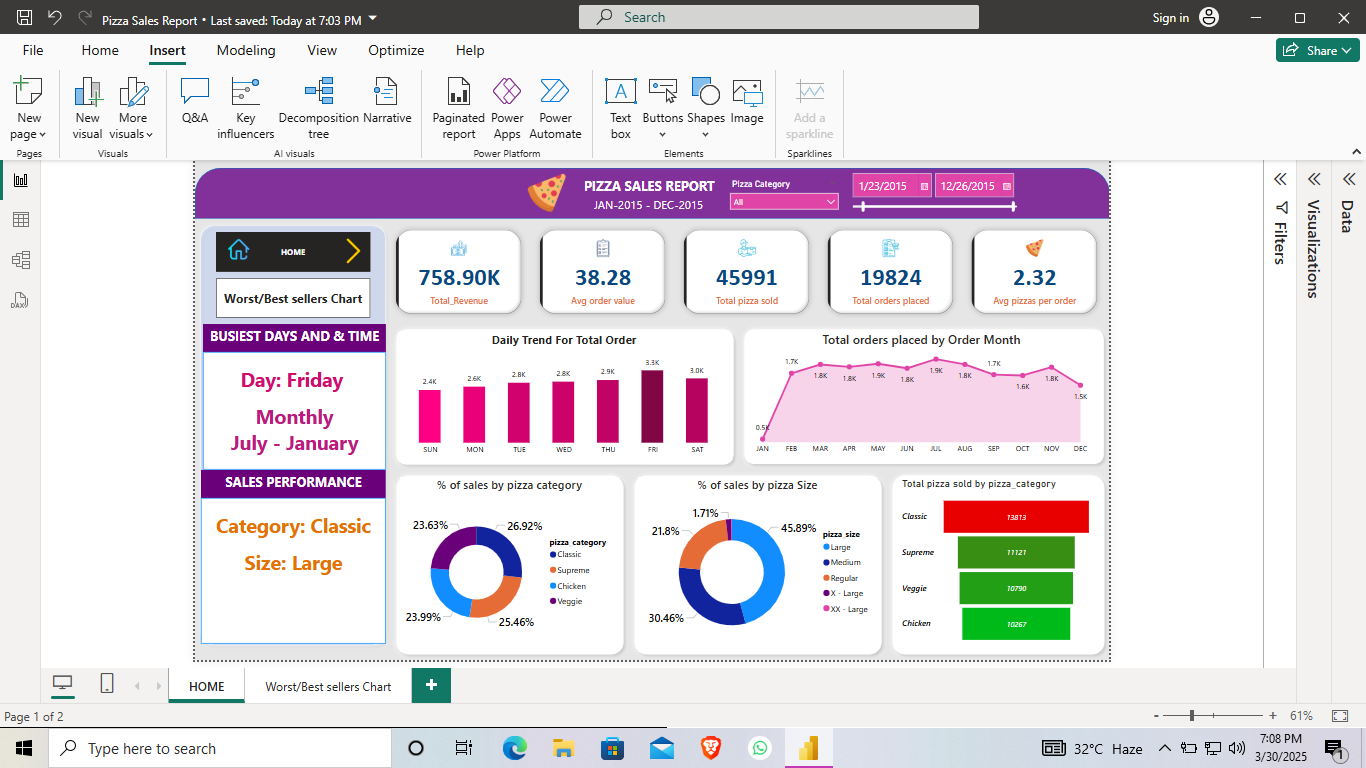

What the dashboard file says about the page in this screenshot:
{"tool":"powerbi","page":{"name":"HOME","canvas":[1500,820],"ordinal":0},"visuals":[{"type":"cardVisual","fields":{"Data":["pizza_sales.total_revenue","pizza_sales.Avg_order_value","pizza_sales.Total pizza sold","pizza_sales.total_orders_placed","pizza_sales.Avg pizzas per order"]},"box":[313.3,98.3,1186.7,170],"z":0},{"type":"shape","box":[0,12.7,1500,83.1],"z":1000},{"type":"textbox","box":[621.7,23.3,246.7,43.3],"z":2000},{"type":"textbox","box":[635,55,218.3,43.3],"z":3000},{"type":"image","box":[531.7,16.7,90,75],"z":4000},{"type":"shape","box":[321.4,269,570.7,239.4],"z":5000},{"type":"shape","box":[892.8,269.3,607.2,238.6],"z":6000},{"type":"columnChart","title":"Daily Trend For Total Order","fields":{"Y":["pizza_sales.total_orders_placed"],"Category":["pizza_sales.order day"]},"box":[332.9,282.1,544.5,211.6],"z":6000,"group":"g1"},{"type":"shape","box":[321.4,508.4,390.3,311.6],"z":7000},{"type":"group","id":"g1","title":"Group 1","box":[332.9,282.1,544.5,211.6],"z":8000},{"type":"areaChart","fields":{"Category":["pizza_sales.Order Month"],"Y":["pizza_sales.Total orders placed"]},"box":[907.2,280.1,569.3,211.4],"z":9000},{"type":"shape","box":[711.8,508.4,423.1,311.6],"z":10000},{"type":"donutChart","title":"% of sales by pizza category","fields":{"Category":["pizza_sales.pizza_category"],"Y":["pizza_sales.Total_Revenue"]},"box":[336.2,519.9,359.2,287],"z":11000},{"type":"shape","box":[0,97.6,321.7,706.6],"z":12000},{"type":"donutChart","title":"% of sales by pizza Size","fields":{"Y":["pizza_sales.Total_Revenue"],"Category":["pizza_sales.pizza_size"]},"box":[726.5,519.9,392,287],"z":13000},{"type":"shape","box":[1134.9,508.4,365.7,311.6],"z":14000},{"type":"funnel","fields":{"Y":["pizza_sales.Total pizza sold"],"Category":["pizza_sales.pizza_category"]},"box":[1154.6,519.9,321.4,287],"z":15000},{"type":"textbox","box":[13.1,269,300.1,45.9],"z":16000},{"type":"textbox","box":[12.7,314.5,300,193.4],"z":17000},{"type":"textbox","box":[9.8,508.4,303.4,45.9],"z":18000},{"type":"textbox","box":[9.8,554.3,303.4,239.4],"z":19000},{"type":"slicer","fields":{"Values":["pizza_sales.pizza_category"]},"box":[867.6,26.2,198.4,72.2],"z":20000},{"type":"slicer","fields":{"Values":["pizza_sales.order_date"]},"box":[1066.3,14.5,294.6,84.9],"z":21000},{"type":"pageNavigator","box":[34.3,117.5,253,65.1],"z":22000},{"type":"pageNavigator","box":[34.3,193.4,253,65.1],"z":23000},{"type":"image","box":[233.1,122.9,54.2,52.4],"z":24000},{"type":"image","box":[48.8,122.9,45.2,47],"z":24001}]}

Visuals, with their boxes on the page's 1500x820 design canvas (x1, y1, x2, y2). These are canvas units, not pixel positions in the 1366x768 screenshot, which may show the page scaled, cropped or inside an application window:
cardVisual - pizza_sales.total_revenue x pizza_sales.Avg_order_value: x1=313 y1=98 x2=1500 y2=268
shape: x1=0 y1=13 x2=1500 y2=96
textbox: x1=622 y1=23 x2=868 y2=67
textbox: x1=635 y1=55 x2=853 y2=98
image: x1=532 y1=17 x2=622 y2=92
shape: x1=321 y1=269 x2=892 y2=508
shape: x1=893 y1=269 x2=1500 y2=508
"Daily Trend For Total Order" columnChart: x1=333 y1=282 x2=877 y2=494
shape: x1=321 y1=508 x2=712 y2=820
"Group 1" group: x1=333 y1=282 x2=877 y2=494
areaChart - pizza_sales.Order Month x pizza_sales.Total orders placed: x1=907 y1=280 x2=1476 y2=492
shape: x1=712 y1=508 x2=1135 y2=820
"% of sales by pizza category" donutChart: x1=336 y1=520 x2=695 y2=807
shape: x1=0 y1=98 x2=322 y2=804
"% of sales by pizza Size" donutChart: x1=726 y1=520 x2=1118 y2=807
shape: x1=1135 y1=508 x2=1501 y2=820
funnel - pizza_sales.Total pizza sold x pizza_sales.pizza_category: x1=1155 y1=520 x2=1476 y2=807
textbox: x1=13 y1=269 x2=313 y2=315
textbox: x1=13 y1=314 x2=313 y2=508
textbox: x1=10 y1=508 x2=313 y2=554
textbox: x1=10 y1=554 x2=313 y2=794
slicer - pizza_sales.pizza_category: x1=868 y1=26 x2=1066 y2=98
slicer - pizza_sales.order_date: x1=1066 y1=14 x2=1361 y2=99
pageNavigator: x1=34 y1=118 x2=287 y2=183
pageNavigator: x1=34 y1=193 x2=287 y2=258
image: x1=233 y1=123 x2=287 y2=175
image: x1=49 y1=123 x2=94 y2=170
